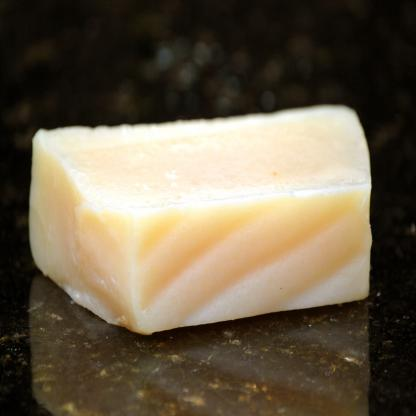soap: (26, 98, 383, 332)
